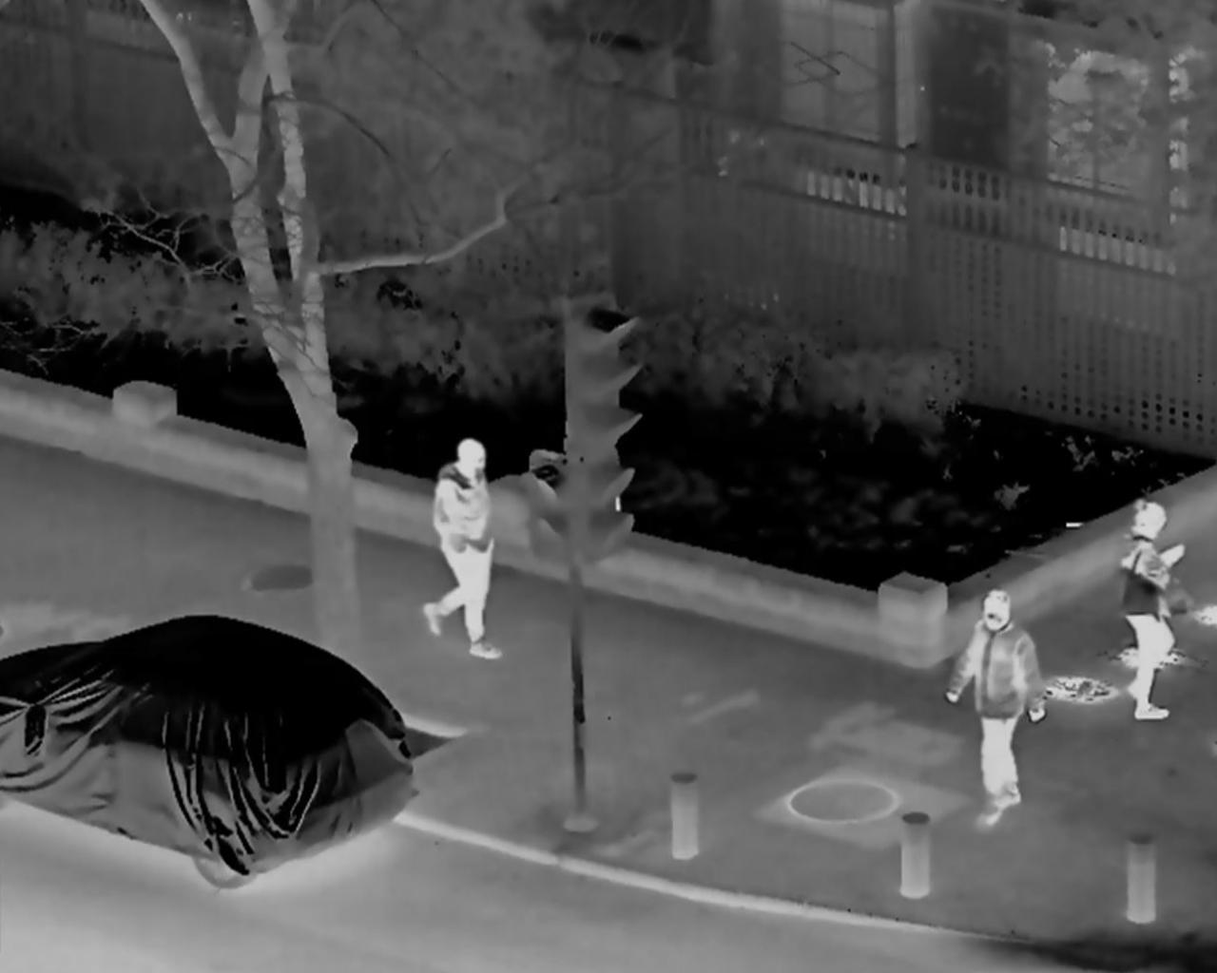person: (944, 588, 1044, 834), (414, 435, 499, 660), (1117, 502, 1180, 724)
